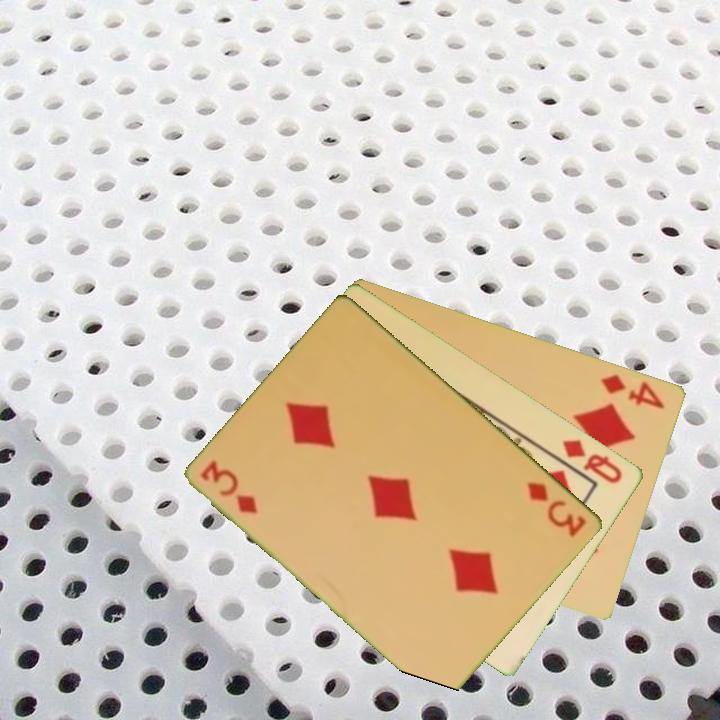3d: (524, 478, 590, 540), (197, 456, 261, 517)
4d: (598, 370, 668, 412)
Qd: (559, 435, 626, 487)
